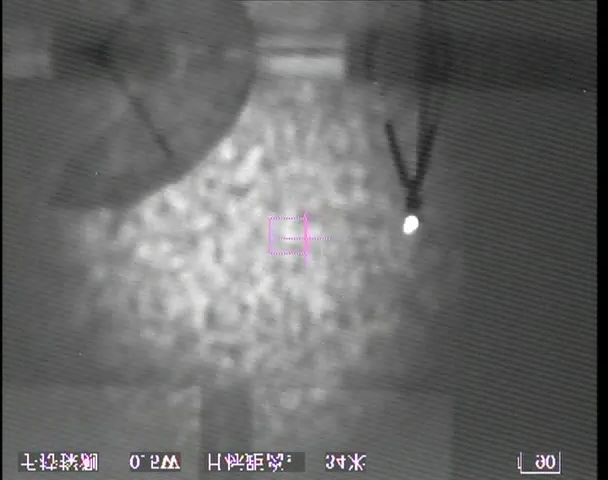my: (400, 212, 420, 234)
